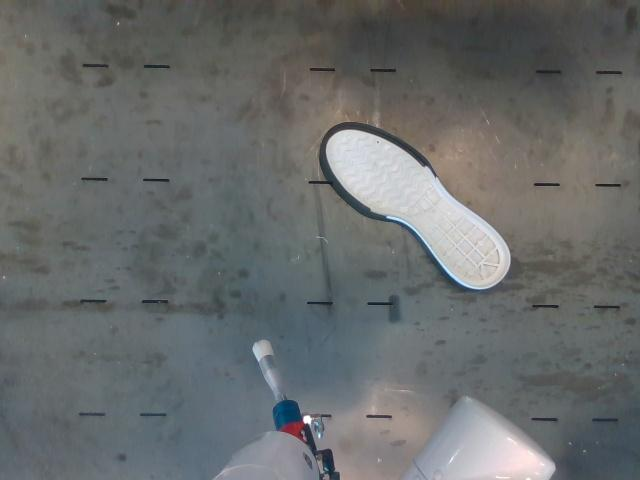shoes: (321, 122, 509, 289)
